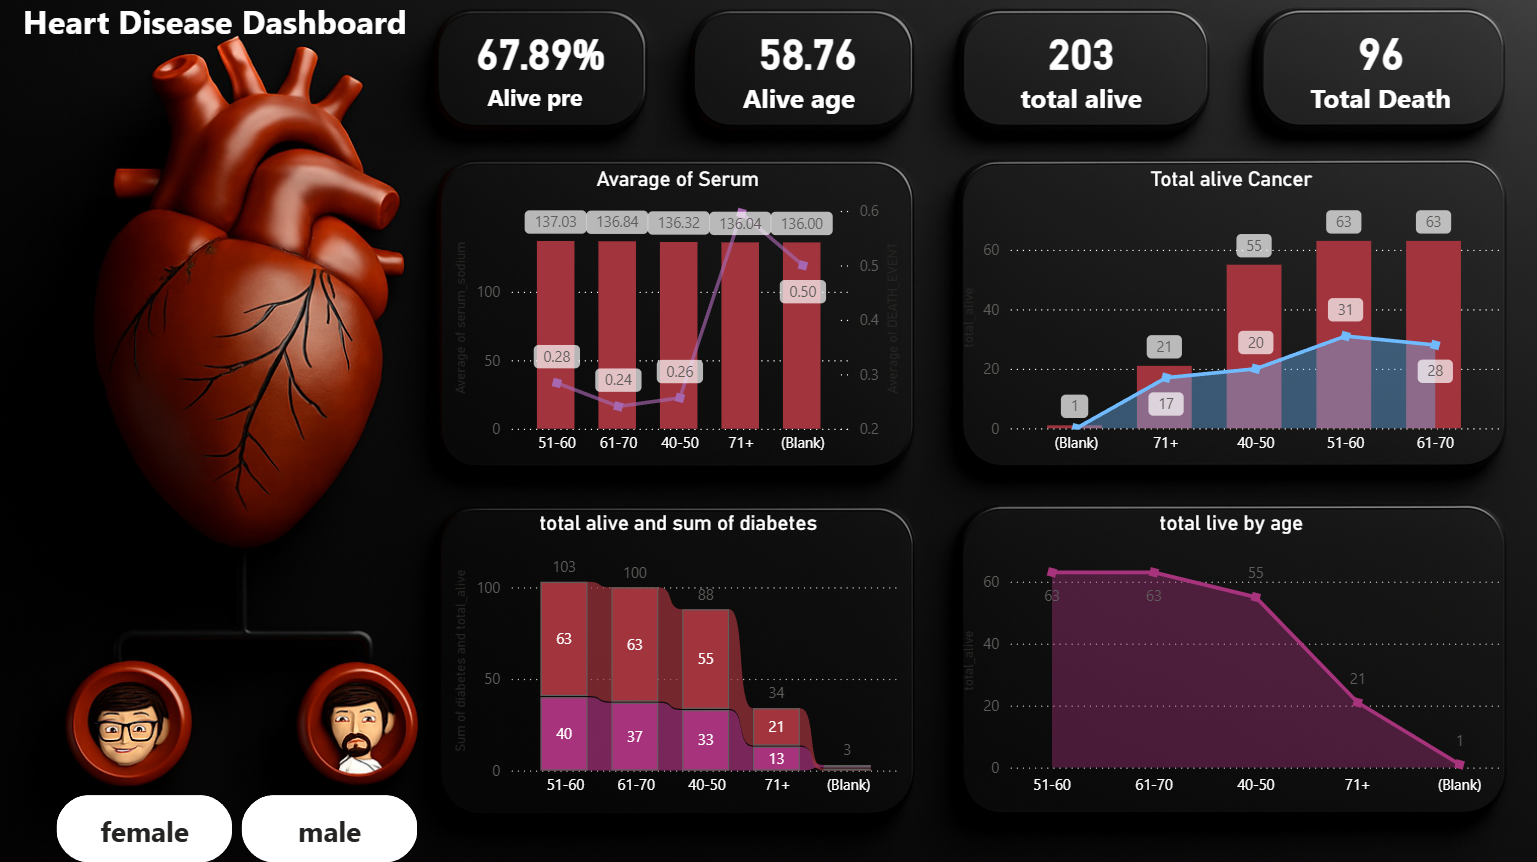

What the dashboard file says about the page in this screenshot:
{"tool":"powerbi","page":{"name":"Page 1","canvas":[1280,720],"ordinal":0},"visuals":[{"type":"textbox","box":[10,0,345.7,67.1],"z":0},{"type":"card","fields":{"Values":["heart_Disease_clinical_records_.alive_P"]},"box":[356.2,0,188.8,96.2],"z":1000},{"type":"card","fields":{"Values":["heart_Disease_clinical_records_.alive_age"]},"box":[560,0,220,96.7],"z":2000},{"type":"card","fields":{"Values":["heart_Disease_clinical_records_.total_alive"]},"box":[791.7,0,206.7,96.7],"z":3000},{"type":"card","fields":{"Values":["heart_Disease_clinical_records_.total_death"]},"box":[1026.7,6.7,228.3,81.7],"z":4000},{"type":"lineClusteredColumnComboChart","title":"Total alive Cancer","fields":{"Y":["heart_Disease_clinical_records_.total_alive"],"Y2":["Sum(heart_Disease_clinical_records_.cancer)"],"Category":["heart_Disease_clinical_records_.age_group"]},"box":[791.2,142.5,452.5,245],"z":5000},{"type":"lineClusteredColumnComboChart","title":"Avarage of Serum","fields":{"Category":["heart_Disease_clinical_records_.age_group"],"Y":["Avg(heart_Disease_clinical_records_.serum_sodium)"],"Y2":["Avg(heart_Disease_clinical_records_.DEATH_EVENT)"]},"box":[374.6,143.1,376.9,245.4],"z":6000},{"type":"lineChart","title":"total live by age","fields":{"Category":["heart_Disease_clinical_records_.age_group"],"Y":["heart_Disease_clinical_records_.total_alive"]},"box":[791.2,425,452.5,243.8],"z":7000},{"type":"ribbonChart","title":"total alive and sum of diabetes","fields":{"Category":["heart_Disease_clinical_records_.age_group"],"Y":["Sum(heart_Disease_clinical_records_.diabetes)","heart_Disease_clinical_records_.total_alive"]},"box":[375,425,377.5,243.8],"z":8000},{"type":"advancedSlicerVisual","fields":{"Values":["heart_Disease_clinical_records_.gender"]},"box":[48.6,654.3,307.1,65.7],"z":9000},{"type":"textbox","box":[840,66.7,158.3,96.7],"z":10000},{"type":"textbox","box":[1078.3,66.7,165,76.7],"z":11000},{"type":"textbox","box":[373.3,66.7,578.3,48.3],"z":12000},{"type":"textbox","box":[251.2,67.5,388.8,320],"z":13000}]}

Visuals, with their boxes in screenshot pixels (x1, y1, x2, y2), scaled from the page's 1280x720 canvas onto the 1537x862 screenshot:
textbox: 12/0/427/80
card - heart_Disease_clinical_records_.alive_P: 428/0/654/115
card - heart_Disease_clinical_records_.alive_age: 672/0/937/116
card - heart_Disease_clinical_records_.total_alive: 951/0/1199/116
card - heart_Disease_clinical_records_.total_death: 1233/8/1507/106
"Total alive Cancer" lineClusteredColumnComboChart: 950/171/1493/464
"Avarage of Serum" lineClusteredColumnComboChart: 450/171/902/465
"total live by age" lineChart: 950/509/1493/801
"total alive and sum of diabetes" ribbonChart: 450/509/904/801
advancedSlicerVisual - heart_Disease_clinical_records_.gender: 58/783/427/861
textbox: 1009/80/1199/196
textbox: 1295/80/1493/172
textbox: 448/80/1143/138
textbox: 302/81/768/464
